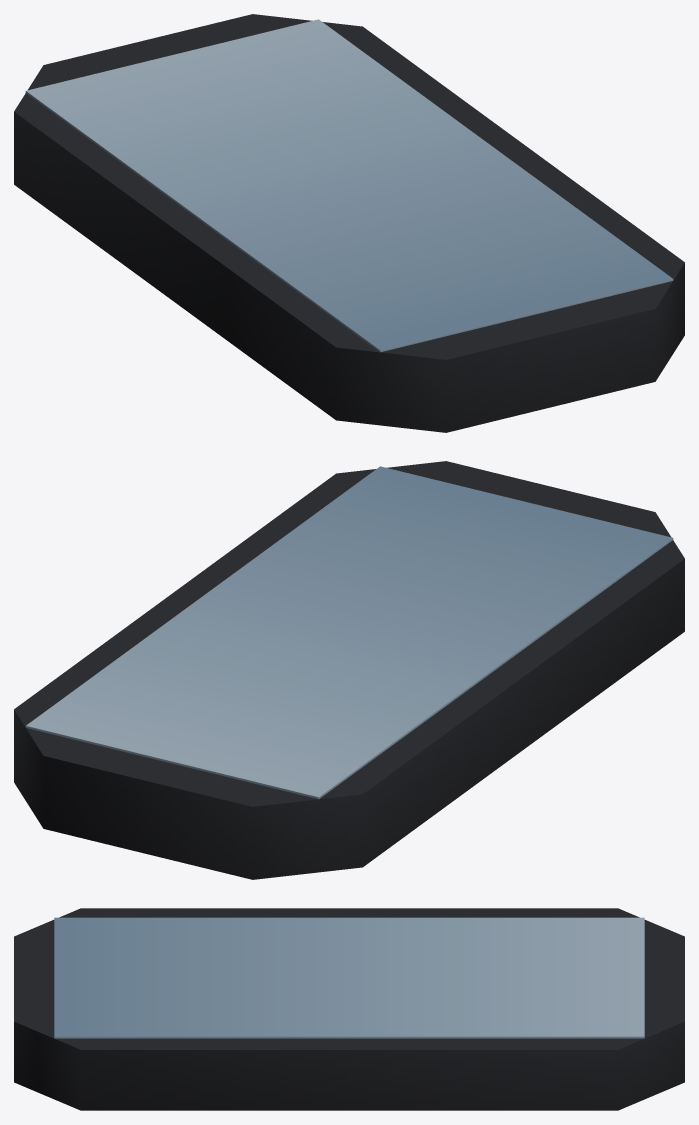
File: dt_smartphone.fbx
The picture shows the model from 3 angles, top to bottom: view 1: azimuth 30°, elevation 25°; view 2: azimuth 150°, elevation 25°; view 3: azimuth 270°, elevation 25°; orthographic projection. The views are drawn at different scales.
Parts seen in each view (by area): view 1: dt_smartphone; view 2: dt_smartphone; view 3: dt_smartphone.
Boxes of the visible parts, x1,y1,x2,y2 form: dt_smartphone: (14,14,684,432); dt_smartphone: (14,461,684,879); dt_smartphone: (14,908,684,1110).
Size of the model in its own units: 40 by 8.24 by 80.
